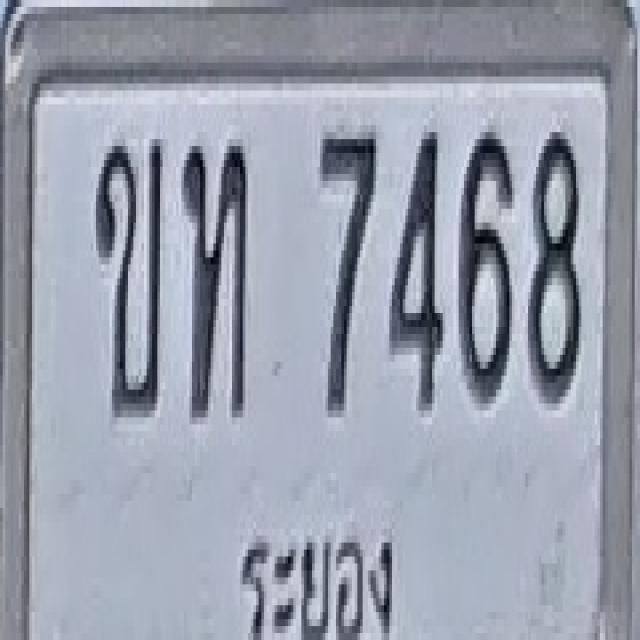4: (389, 126, 443, 410)
6: (459, 125, 512, 404)
7: (320, 126, 376, 410)
8: (528, 125, 581, 404)
A02: (93, 132, 163, 418)
A23: (181, 139, 248, 418)
RYG: (232, 518, 398, 640)
